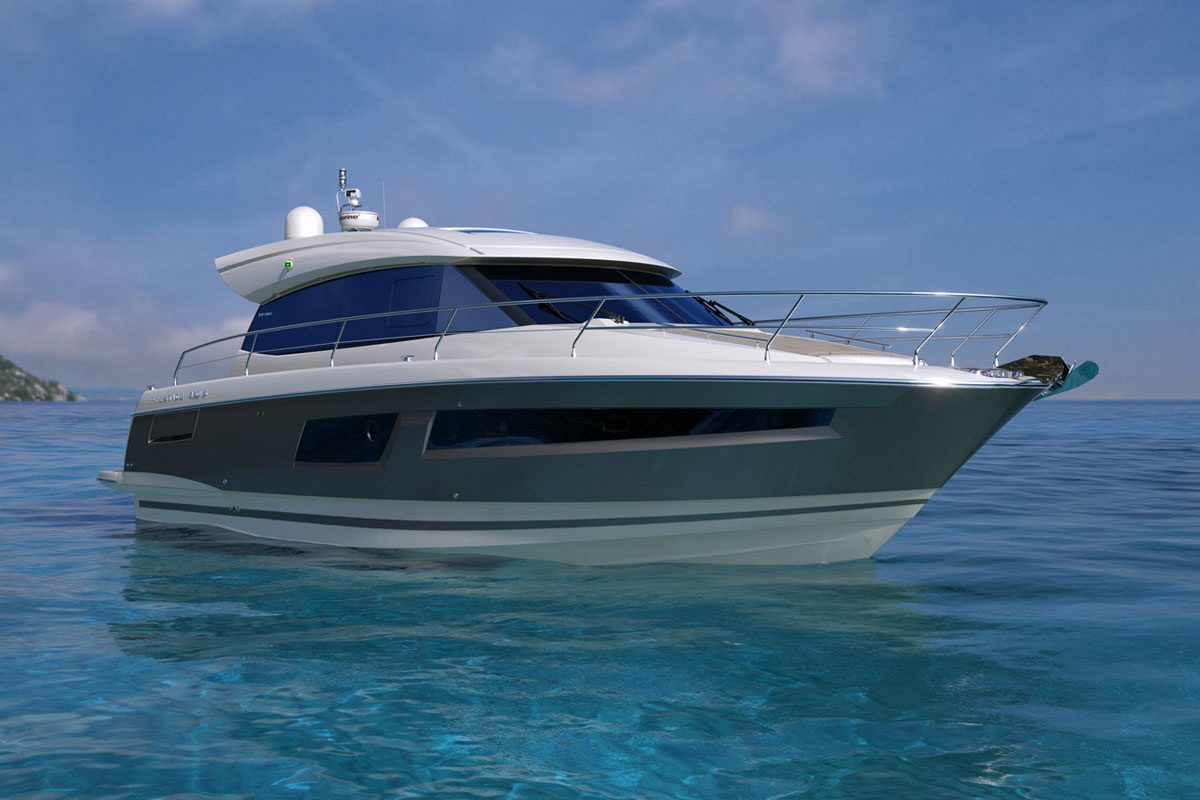yacht: (93, 174, 1081, 562)
